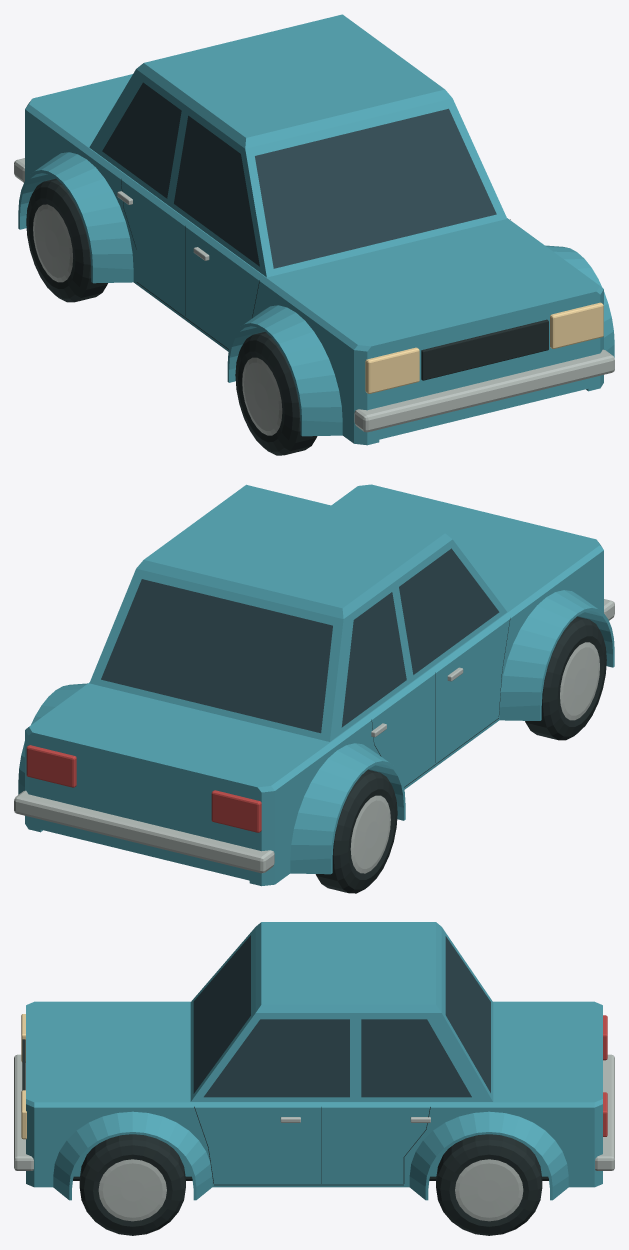
The model's file is asset.glb.
3 renders of one model, top to bottom at view 1: azimuth 30°, elevation 25°; view 2: azimuth 150°, elevation 25°; view 3: azimuth 270°, elevation 25°, orthographic. The views are drawn at different scales.
Visible parts, largest first — view 1: Body_ThreeBox_LowerShell, Cabin_Painted_Pillars_Roof, Glass_Windshield, Glass_Front_L, Fender_Arch_front_L, Fender_Arch_rear_L, wheel_rl, wheel_fl, Bumper_Front, Glass_Rear_L, Grille_Dark, Headlight_L (+2 smaller); view 2: Body_ThreeBox_LowerShell, Cabin_Painted_Pillars_Roof, Glass_RearWindow, Glass_Front_L, Fender_Arch_rear_L, Fender_Arch_front_L, wheel_rl, wheel_fl, Bumper_Rear, Glass_Rear_L, Taillight_L, Taillight_R (+1 smaller); view 3: Body_ThreeBox_LowerShell, Cabin_Painted_Pillars_Roof, Glass_Front_R, wheel_fr, wheel_rr, Glass_Rear_R, Fender_Arch_rear_R, Fender_Arch_front_R, Glass_Windshield, Glass_RearWindow, Bumper_Rear, Bumper_Front.
Part boxes in pixels (x1,y1,x2,y2): Body_ThreeBox_LowerShell: [25, 74, 603, 445]; Cabin_Painted_Pillars_Roof: [89, 14, 507, 277]; Glass_Windshield: [255, 108, 496, 268]; Glass_Front_L: [174, 115, 259, 266]; Fender_Arch_front_L: [227, 305, 342, 436]; Fender_Arch_rear_L: [18, 152, 133, 283]; wheel_rl: [26, 178, 107, 302]; wheel_fl: [235, 332, 317, 455]; Bumper_Front: [354, 349, 614, 432]; Glass_Rear_L: [102, 82, 181, 198]; Grille_Dark: [421, 319, 548, 380]; Headlight_L: [365, 347, 419, 393]; Body_ThreeBox_LowerShell: [25, 484, 603, 886]; Cabin_Painted_Pillars_Roof: [89, 484, 506, 741]; Glass_RearWindow: [101, 579, 332, 733]; Glass_Front_L: [399, 548, 499, 674]; Fender_Arch_rear_L: [290, 743, 405, 874]; Fender_Arch_front_L: [499, 590, 614, 720]; wheel_rl: [315, 769, 397, 893]; wheel_fl: [525, 616, 606, 740]; Bumper_Rear: [14, 790, 274, 873]; Glass_Rear_L: [341, 592, 406, 727]; Taillight_L: [211, 790, 261, 832]; Taillight_R: [26, 745, 76, 787]; Body_ThreeBox_LowerShell: [26, 1001, 602, 1187]; Cabin_Painted_Pillars_Roof: [190, 922, 493, 1101]; Glass_Front_R: [204, 1019, 349, 1097]; wheel_fr: [79, 1134, 185, 1235]; wheel_rr: [436, 1134, 542, 1235]; Glass_Rear_R: [361, 1019, 471, 1097]; Fender_Arch_rear_R: [409, 1111, 568, 1200]; Fender_Arch_front_R: [53, 1111, 212, 1200]; Glass_Windshield: [193, 935, 250, 1093]; Glass_RearWindow: [445, 936, 490, 1092]; Bumper_Rear: [595, 1054, 614, 1170]; Bumper_Front: [14, 1054, 33, 1170].
Size of the model in its own units: 2.25 by 1.65 by 4.3.
